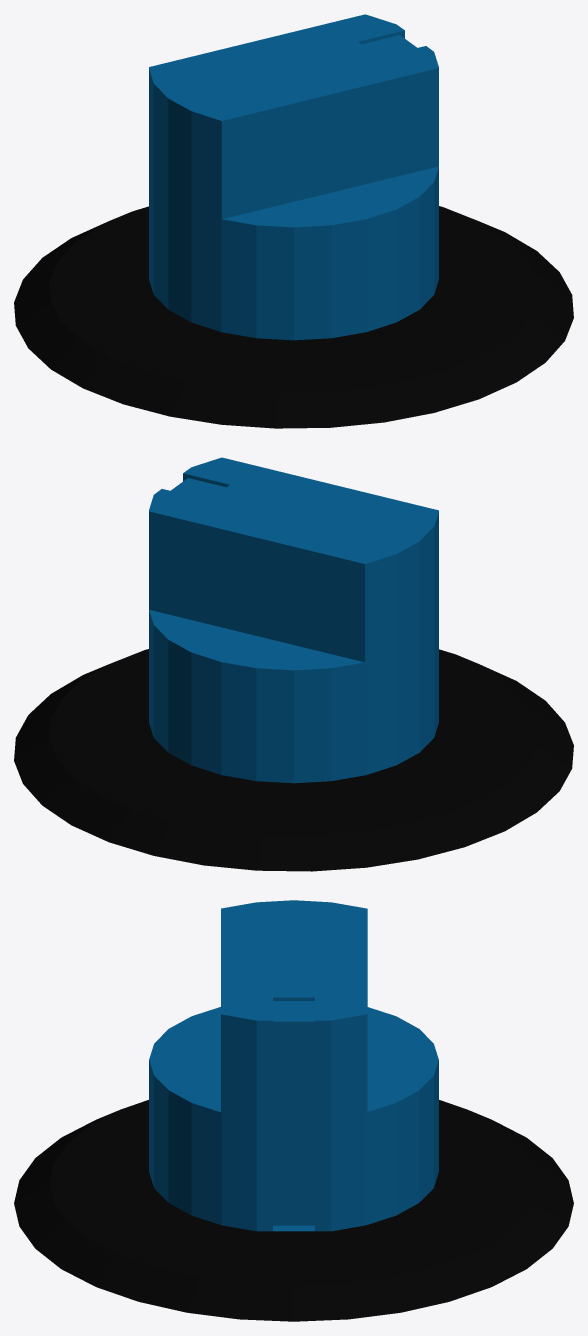
File: props.fbx_reg9.fbx
3 views of the same model, one above another, from view 1: azimuth 30°, elevation 25°; view 2: azimuth 150°, elevation 25°; view 3: azimuth 270°, elevation 25° (orthographic).
Visible parts, largest first — view 1: Cylinder.018, Circle.034; view 2: Cylinder.018, Circle.034; view 3: Cylinder.018, Circle.034.
Boxes of the visible parts, x1,y1,x2,y2 form: Cylinder.018: (149,14,438,340); Circle.034: (14,206,573,428); Cylinder.018: (149,457,438,783); Circle.034: (14,649,573,871); Cylinder.018: (149,900,438,1231); Circle.034: (14,1100,573,1321).
Size of the model in its own units: 0.6411 by 0.3056 by 0.6411.
